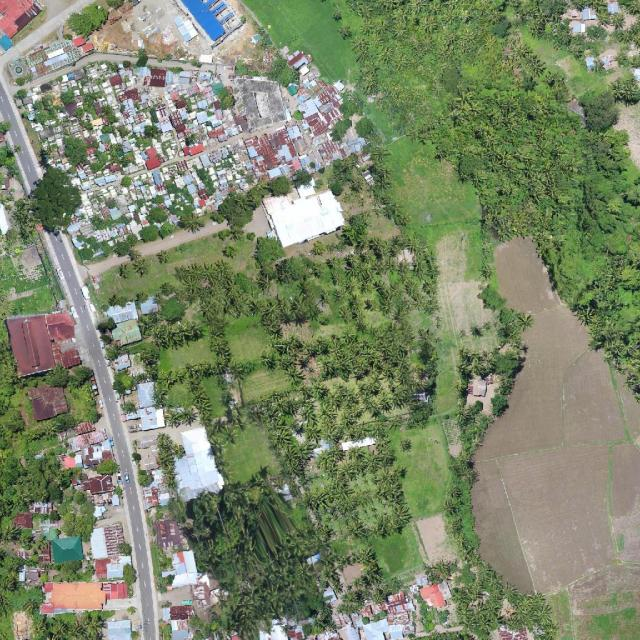agricultural_land: (472, 239, 640, 640)
building: (280, 565, 521, 640), (34, 523, 137, 615), (5, 310, 56, 378), (9, 498, 61, 545), (26, 381, 68, 422), (45, 312, 75, 342), (52, 536, 83, 563), (77, 475, 115, 497), (83, 438, 113, 461), (58, 347, 83, 370)
greenland: (135, 233, 476, 634), (0, 300, 74, 540), (127, 232, 232, 299), (394, 423, 459, 519), (96, 265, 135, 304), (69, 374, 95, 421), (0, 554, 18, 608), (233, 240, 256, 269)
metalled_road: (41, 224, 179, 640)
